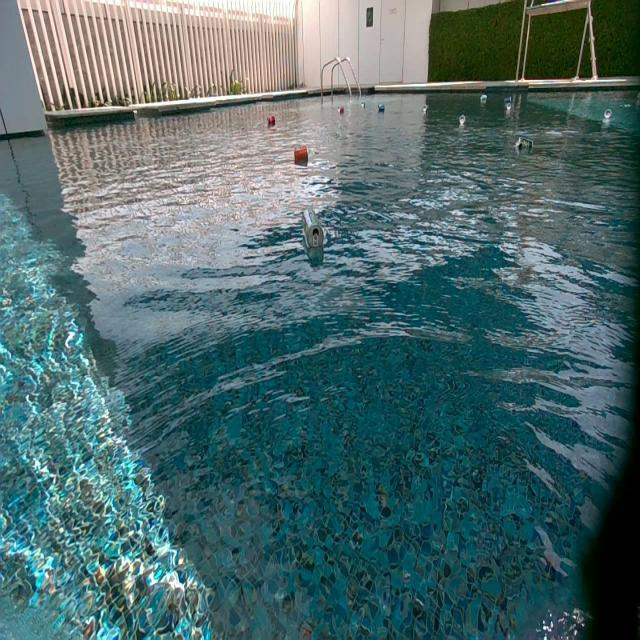Cans: (303, 208, 324, 250), (516, 137, 532, 154), (293, 145, 307, 161), (268, 113, 278, 125), (458, 114, 467, 127), (377, 104, 386, 114), (603, 108, 612, 118), (503, 102, 512, 112), (481, 95, 488, 105), (338, 106, 345, 115), (503, 96, 512, 103), (360, 100, 366, 108), (424, 105, 429, 114)
